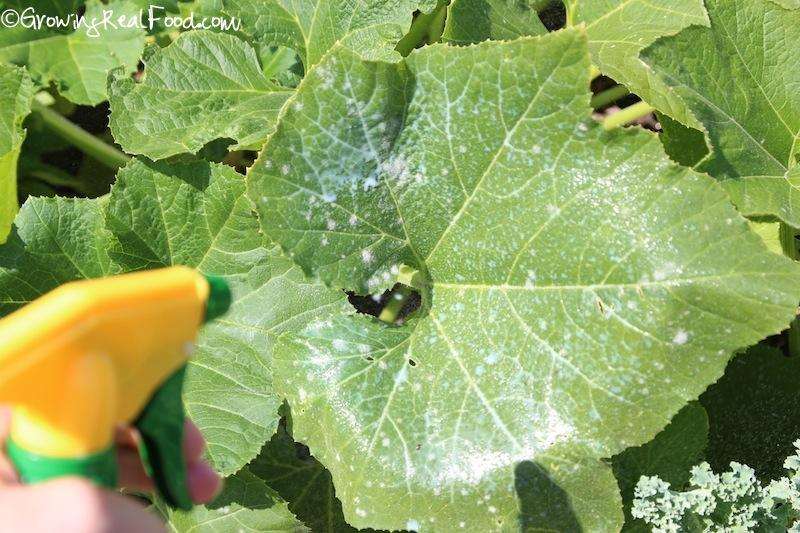Squash Powdery mildew leaf: (183, 28, 800, 500)
